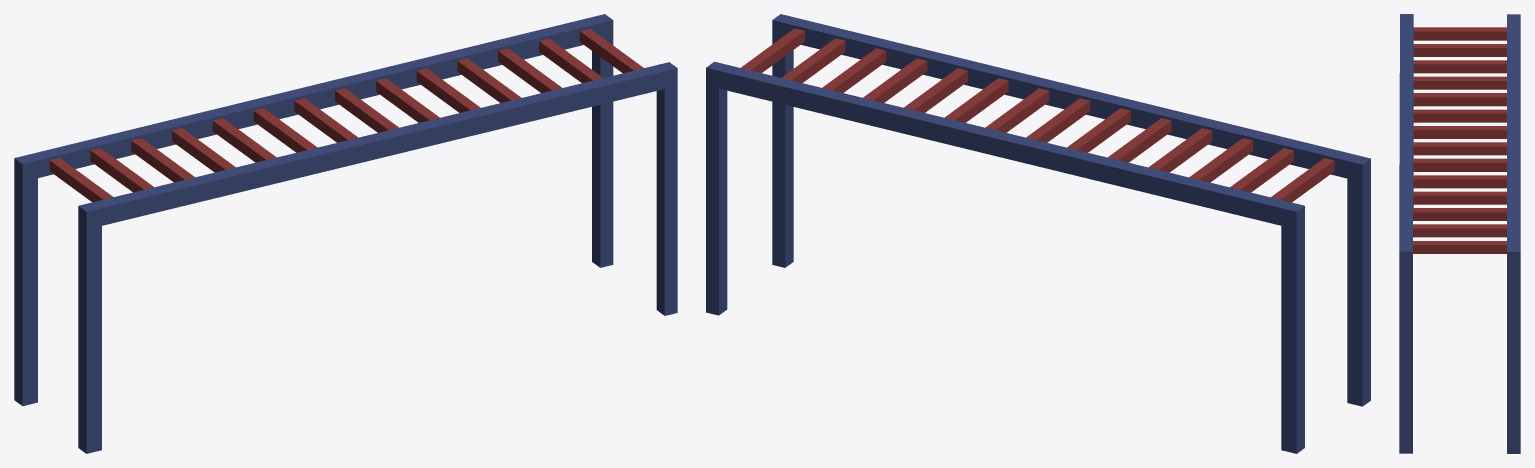
File: monkey_bars.fbx
3 renders of one model, left to right at view 1: azimuth 30°, elevation 25°; view 2: azimuth 150°, elevation 25°; view 3: azimuth 270°, elevation 25°, orthographic. The views are drawn at different scales.
Visible parts, largest first — view 1: pCube19; view 2: pCube19; view 3: pCube19.
Part boxes in pixels (<box>): pCube19: <box>14,14,677,453</box>; pCube19: <box>706,14,1370,453</box>; pCube19: <box>1399,14,1520,453</box>.
Bounding box in the file's own units: 7.27 × 2.87 × 1.57.
